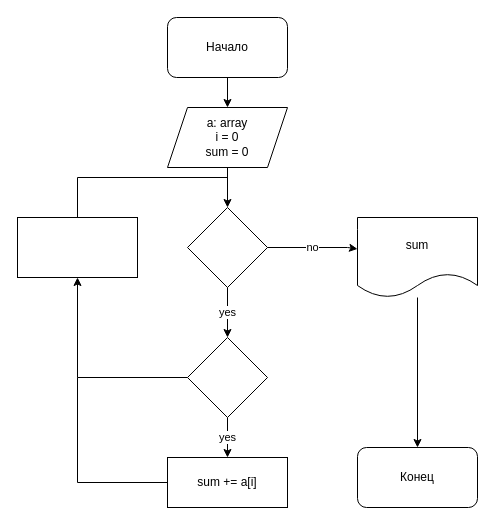
Some shapes in this 495 by 525 pixel diagram are drawn without their labels. Each missing label, with the centre of its shape:
i % 2 == 1: pixel 227 377
i += 1: pixel 77 247
i < len(a): pixel 227 247
